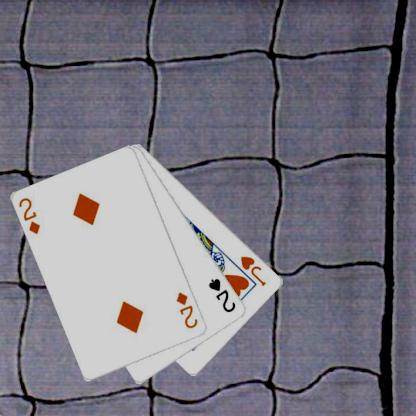2D: (16, 195, 42, 236), (174, 290, 199, 330)
2S: (206, 276, 238, 314)
JH: (238, 254, 268, 288)
